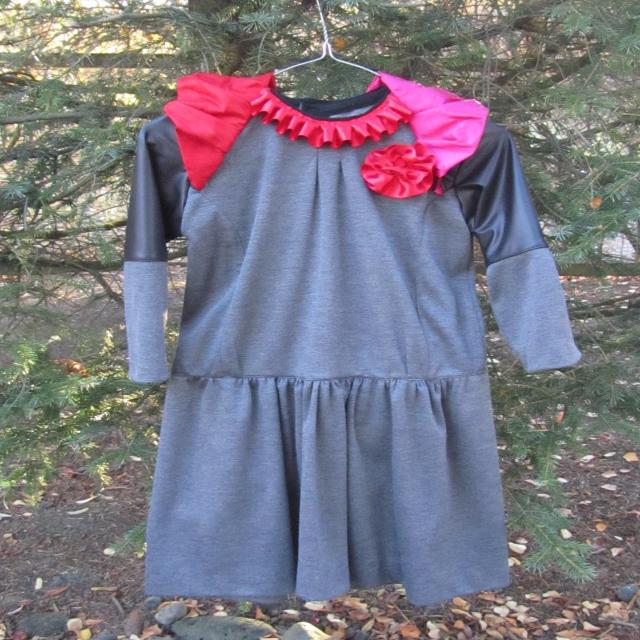Dress: (99, 61, 587, 611)
